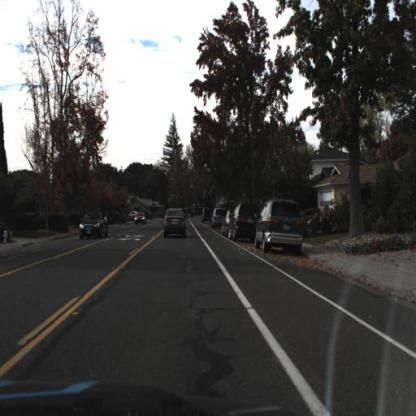car: (257, 196, 305, 258), (230, 200, 261, 246), (77, 213, 108, 242), (166, 211, 191, 242), (128, 214, 143, 232)
